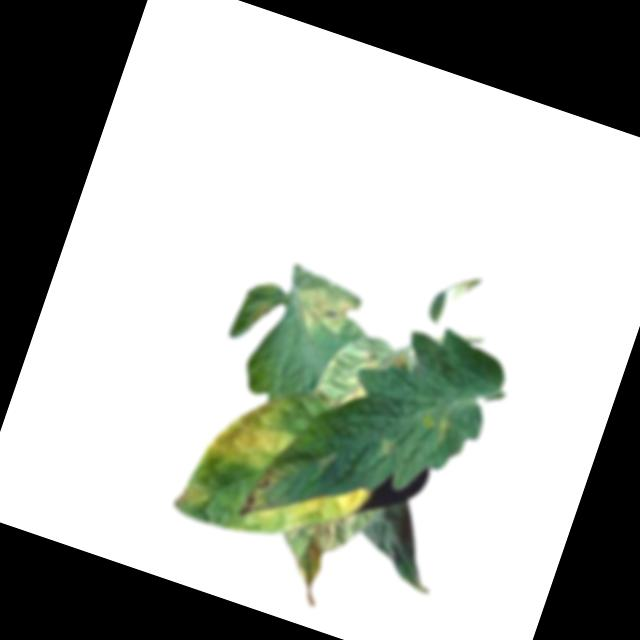Leaf_Mold: (256, 461, 373, 560), (203, 385, 299, 479), (312, 337, 385, 419), (287, 277, 362, 348), (166, 478, 213, 519), (238, 469, 273, 522)
